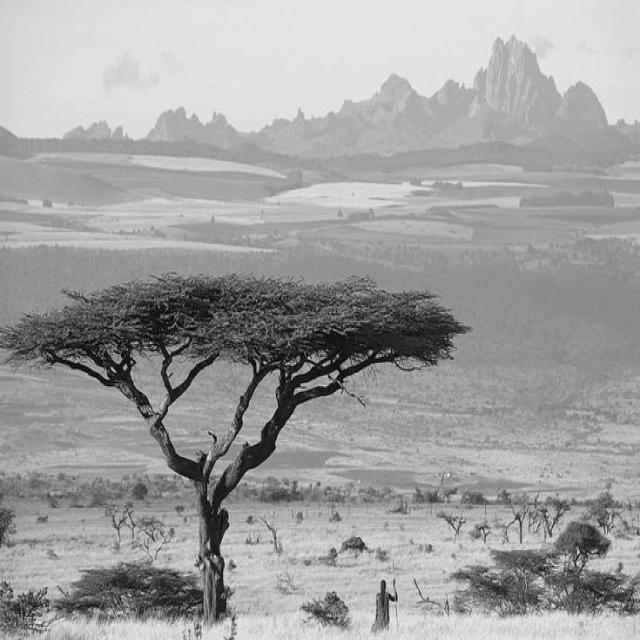Acacia: (22, 298, 446, 524)
